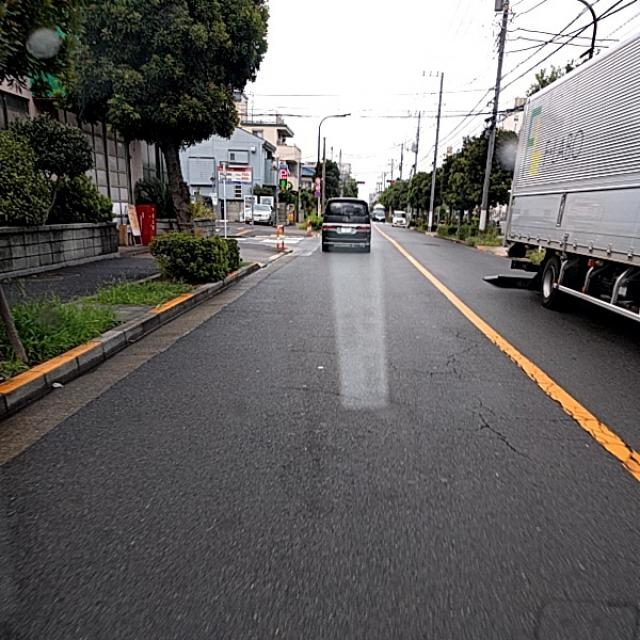pothole: (430, 350, 498, 430)
